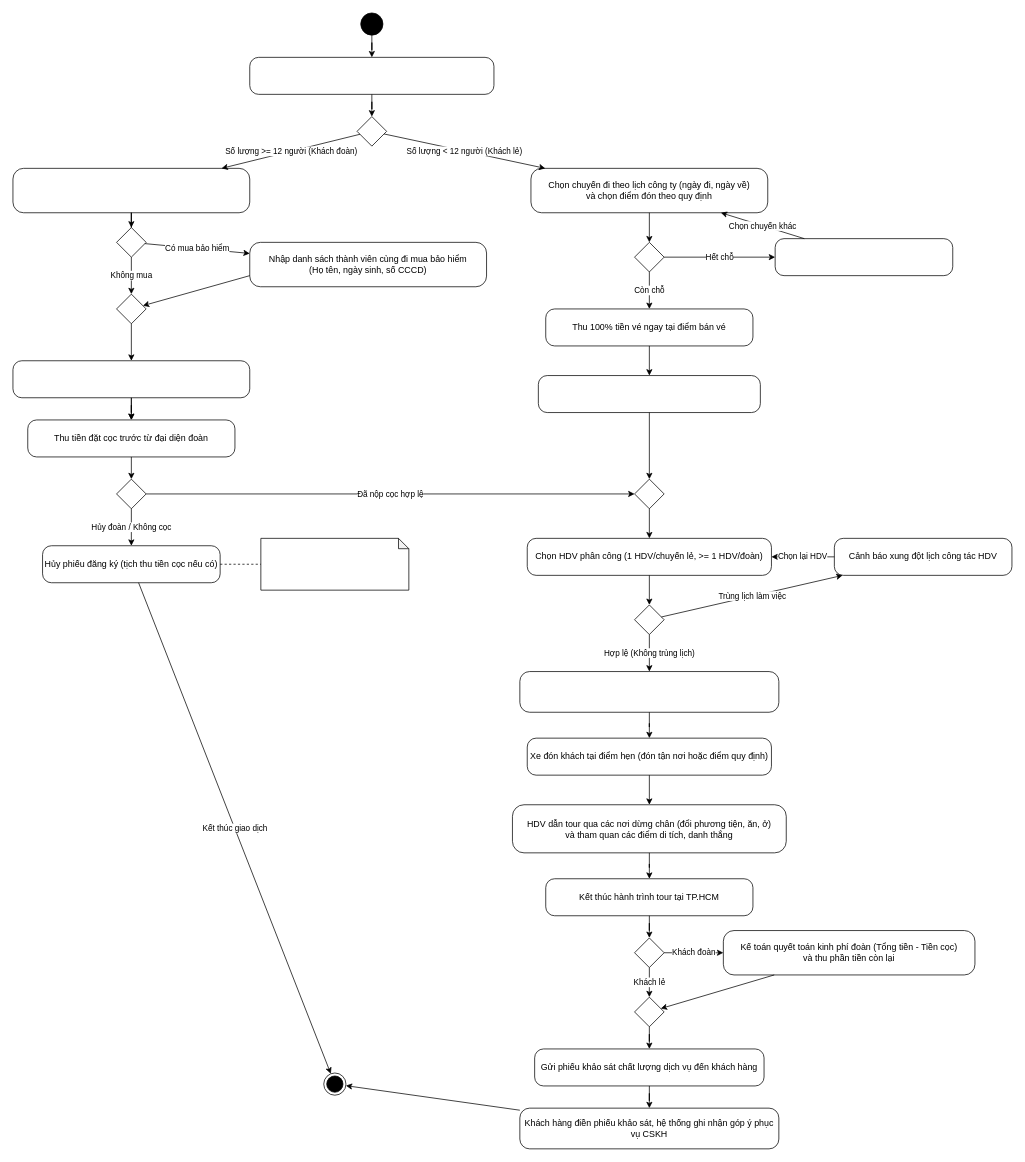
Some shapes in this 1025 by 1162 pixel diagram are drawn without their labels. The box of each missing label's shape, as (x1, y1, x2, y2) in pixels:
Lập Phiếu đăng ký đoàn và lưu hồ sơ khách hàng (CRM): (12, 360, 250, 398)
Nhập thông tin cơ quan/gia đình, ngày đi tự chọn và địa điểm xe đón theo yêu cầu: (12, 168, 250, 213)
Thông báo hết chỗ trên chuyến đã chọn: (774, 238, 953, 276)
Tiếp nhận yêu cầu đăng ký tour và số lượng khách: (249, 57, 494, 94)
Xuất vé du lịch cho khách lẻ và cập nhật số chỗ trống: (538, 375, 760, 413)
Xác nhận phân công và gửi thông báo lịch trình cho khách & HDV: (519, 671, 779, 712)
Đoàn hủy chuyến trước khi đi sẽ bị mất toàn bộ tiền đặt cọc theo quy định BR05: (260, 538, 409, 590)
